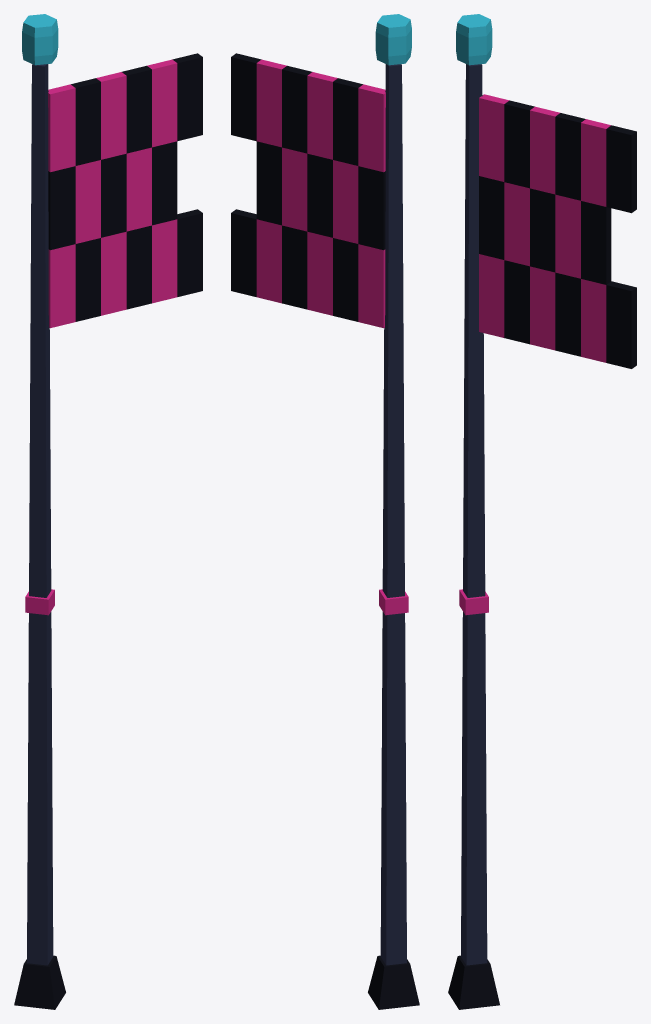
Rendered from flag.glb.
The picture shows the model from 3 angles, left to right: view 1: azimuth 30°, elevation 25°; view 2: azimuth 150°, elevation 25°; view 3: azimuth 330°, elevation 25°; orthographic projection.
Parts seen in each view (by area): view 1: nightCity-flag; view 2: nightCity-flag; view 3: nightCity-flag.
Part boxes in pixels (x1,y1,x2,y2): nightCity-flag: [14, 14, 202, 1009]; nightCity-flag: [231, 14, 419, 1009]; nightCity-flag: [448, 14, 636, 1009].
Size of the model in its own units: 0.25 by 1.25 by 0.07.
